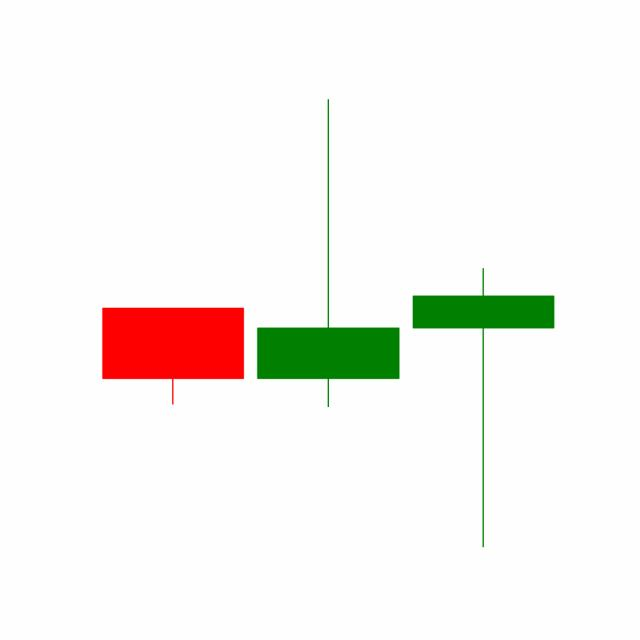Hammer: (405, 264, 561, 550)
